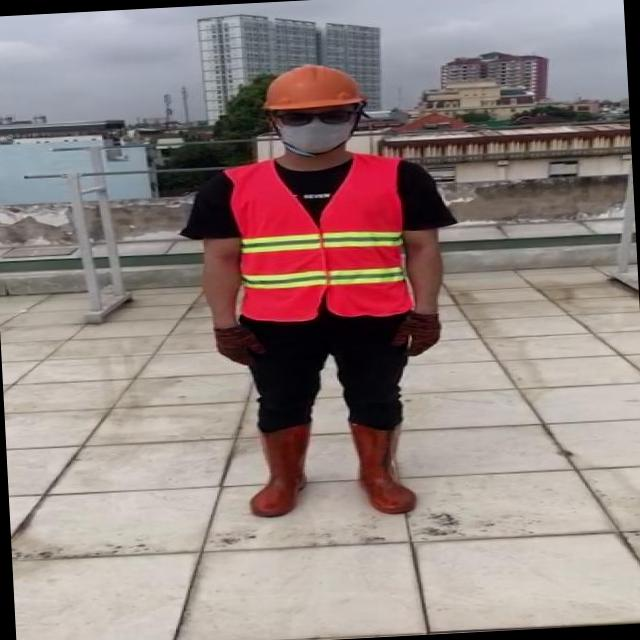boots: (345, 418, 421, 516), (247, 426, 309, 520)
helmet: (262, 60, 368, 114)
vest: (219, 154, 410, 324)
